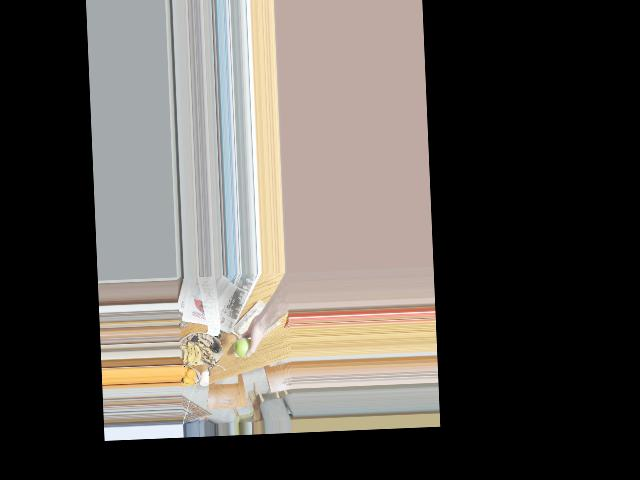apple: (233, 334, 254, 359)
